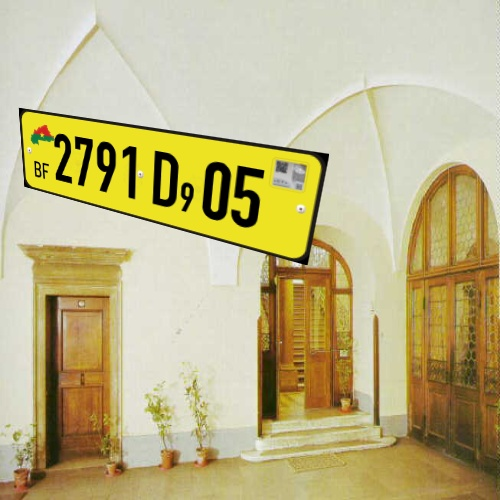plate: (6, 94, 336, 285)
